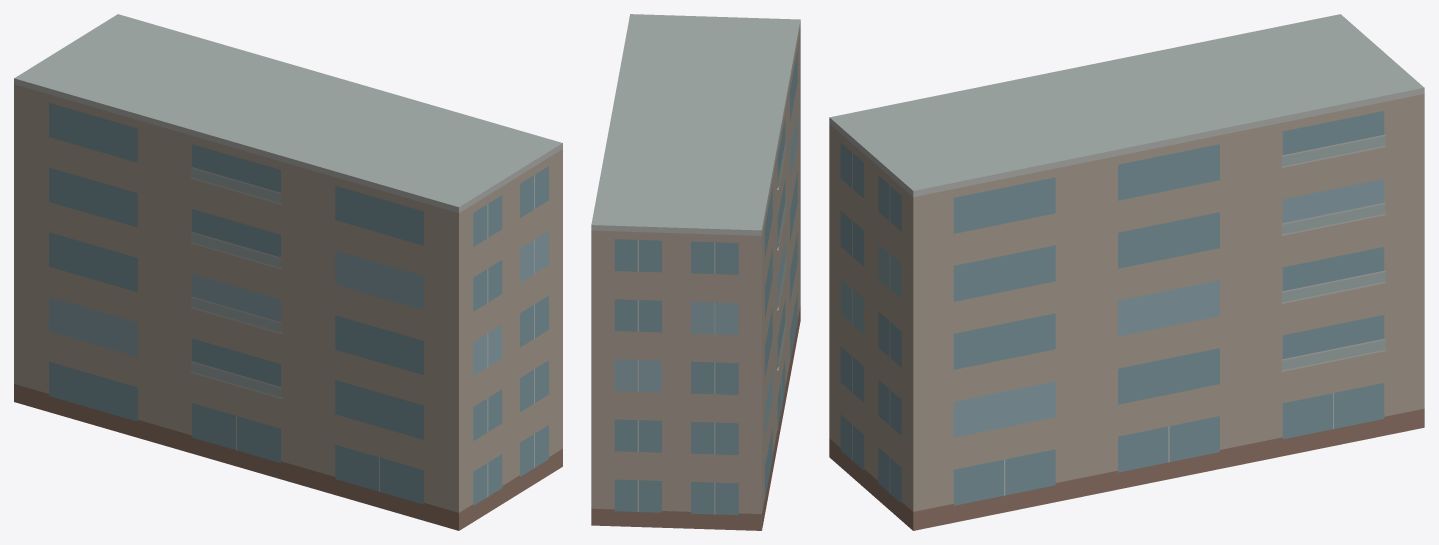
File: survey-upis-32956076.glb
The picture shows the model from 3 angles, left to right: view 1: azimuth 30°, elevation 25°; view 2: azimuth 150°, elevation 25°; view 3: azimuth 270°, elevation 25°; orthographic projection. The views are drawn at different scales.
Parts seen in each view (by area): view 1: survey-upis-32956076.tmp; view 2: survey-upis-32956076.tmp; view 3: survey-upis-32956076.tmp.
Boxes of the visible parts, left/top/right/bottom form: survey-upis-32956076.tmp: left=14, top=14, right=562, bottom=530; survey-upis-32956076.tmp: left=591, top=14, right=800, bottom=530; survey-upis-32956076.tmp: left=829, top=14, right=1424, bottom=530.
Size of the model in its own units: 14.92 by 13.35 by 21.19.
